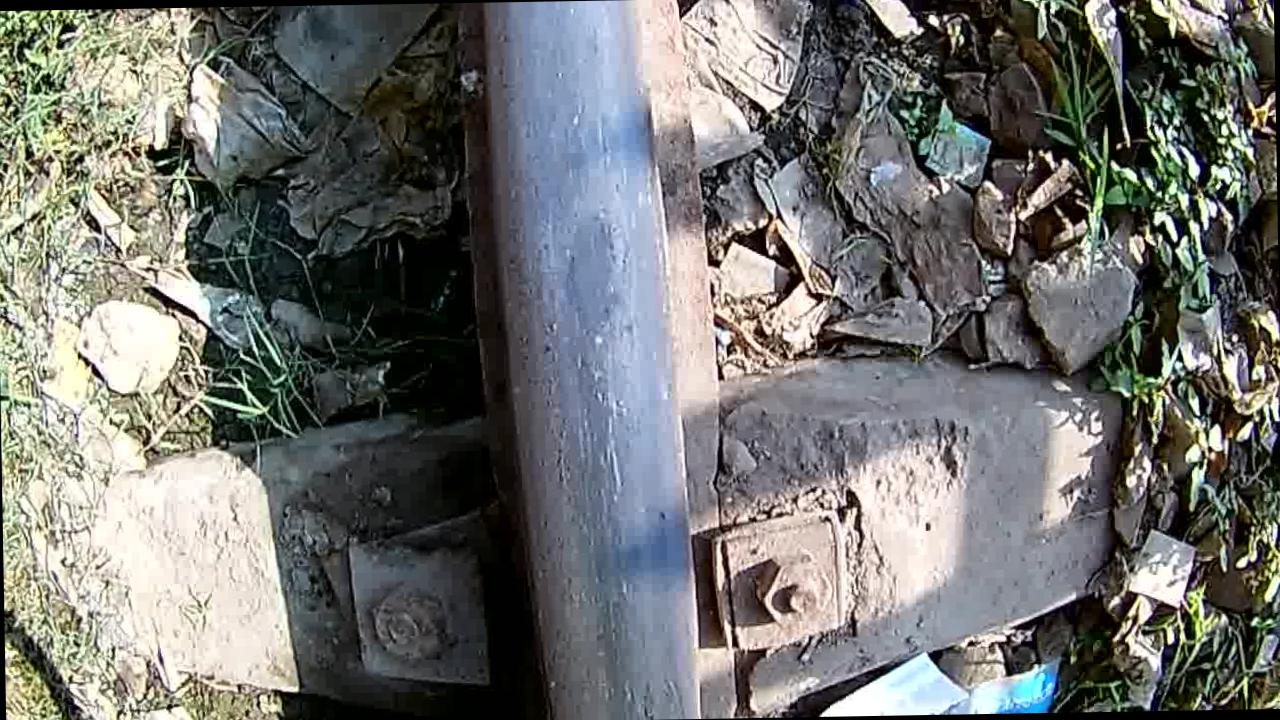bolt_missing: (501, 159, 675, 411)
